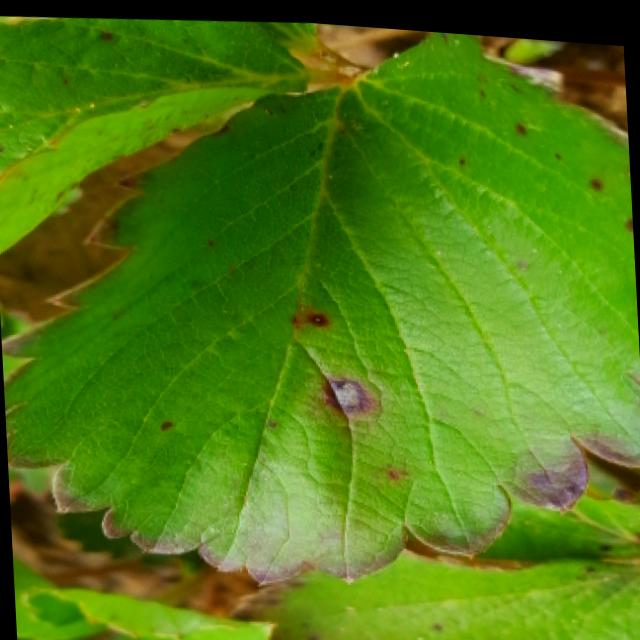Leaf Spot: (1, 25, 640, 586), (225, 541, 640, 640), (469, 484, 640, 561)
